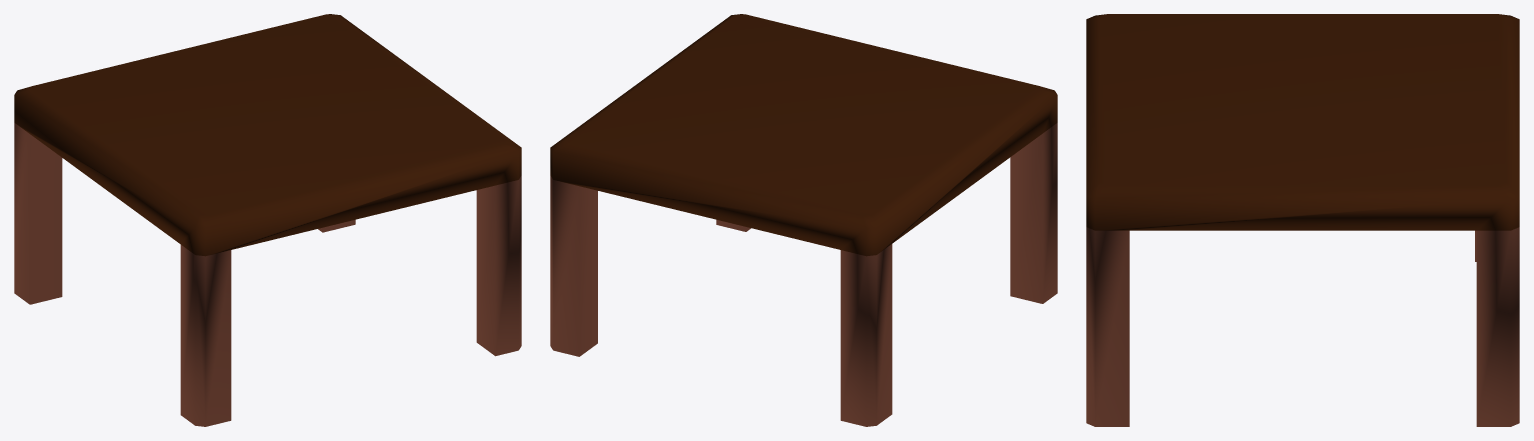
The model's file is NivekTable.glb.
The picture shows the model from 3 angles, left to right: view 1: azimuth 30°, elevation 25°; view 2: azimuth 150°, elevation 25°; view 3: azimuth 270°, elevation 25°; orthographic projection. The views are drawn at different scales.
Visible parts, largest first — view 1: NivekTable; view 2: NivekTable; view 3: NivekTable.
Boxes of the visible parts, left/top/right/bottom form: NivekTable: left=14, top=14, right=521, bottom=426; NivekTable: left=550, top=14, right=1057, bottom=426; NivekTable: left=1086, top=14, right=1519, bottom=426.
Size of the model in its own units: 2 by 1.2 by 2.
1 material, 1 textured.
